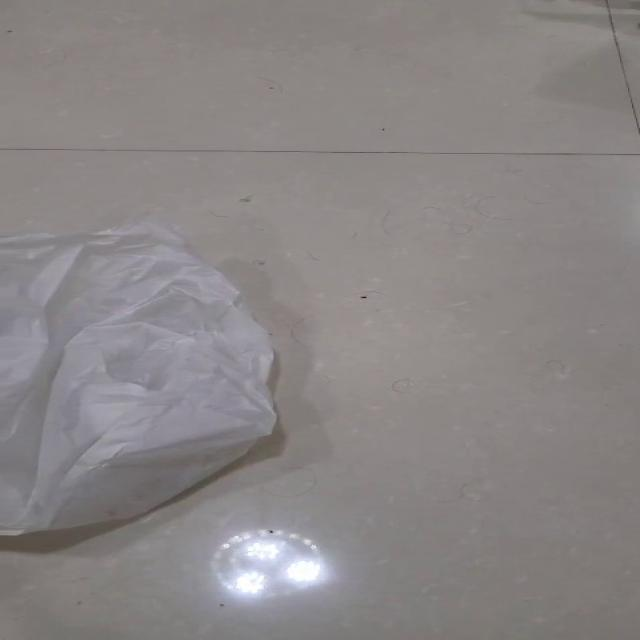plastic: (0, 217, 277, 536)
